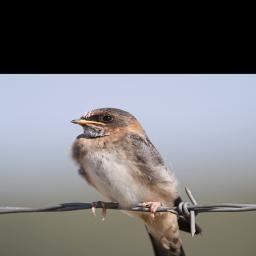Swallow: (68, 105, 203, 256)
